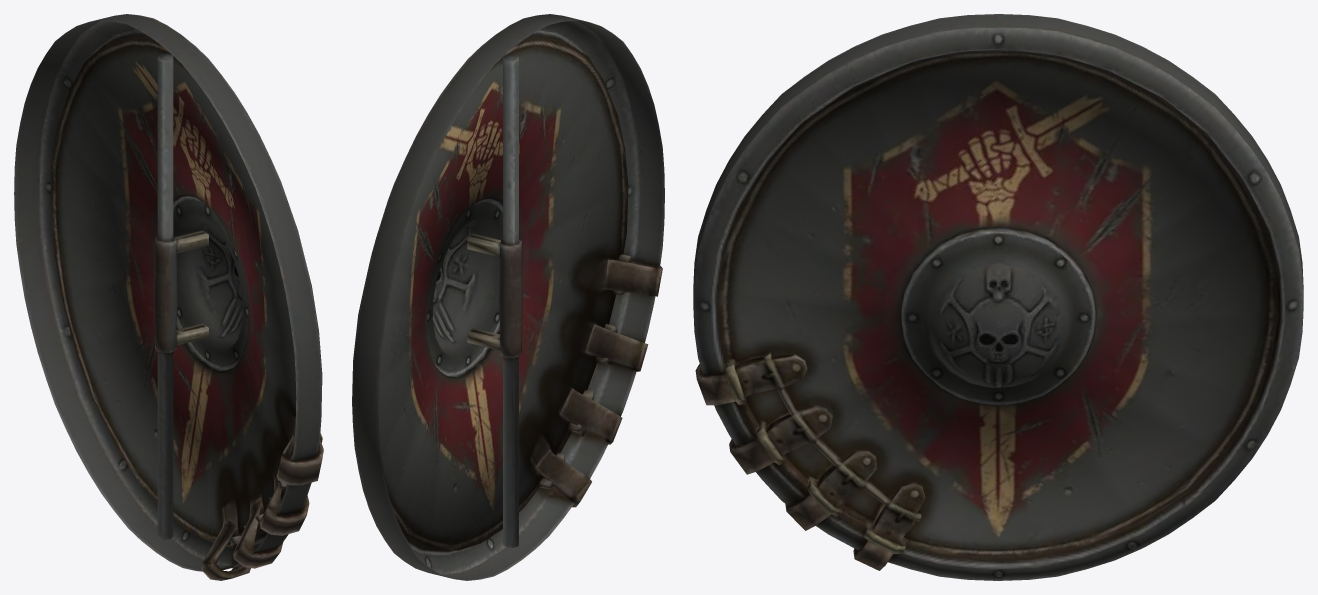
The model's file is gear_knight_shield.glb.
3 views of the same model, side by side, from view 1: azimuth 30°, elevation 25°; view 2: azimuth 150°, elevation 25°; view 3: azimuth 270°, elevation 25° (orthographic). The views are drawn at different scales.
Parts seen in each view (by area): view 1: tripo_node_f0efee3c-1742-4748-bc62-faefe9555605; view 2: tripo_node_f0efee3c-1742-4748-bc62-faefe9555605; view 3: tripo_node_f0efee3c-1742-4748-bc62-faefe9555605.
Part boxes in pixels (x1,y1,x2,y2): tripo_node_f0efee3c-1742-4748-bc62-faefe9555605: (14,14,323,580); tripo_node_f0efee3c-1742-4748-bc62-faefe9555605: (352,14,664,580); tripo_node_f0efee3c-1742-4748-bc62-faefe9555605: (693,14,1303,580).
Size of the model in its own units: 0.1973 by 0.998 by 0.998.
1 material, 1 textured.
